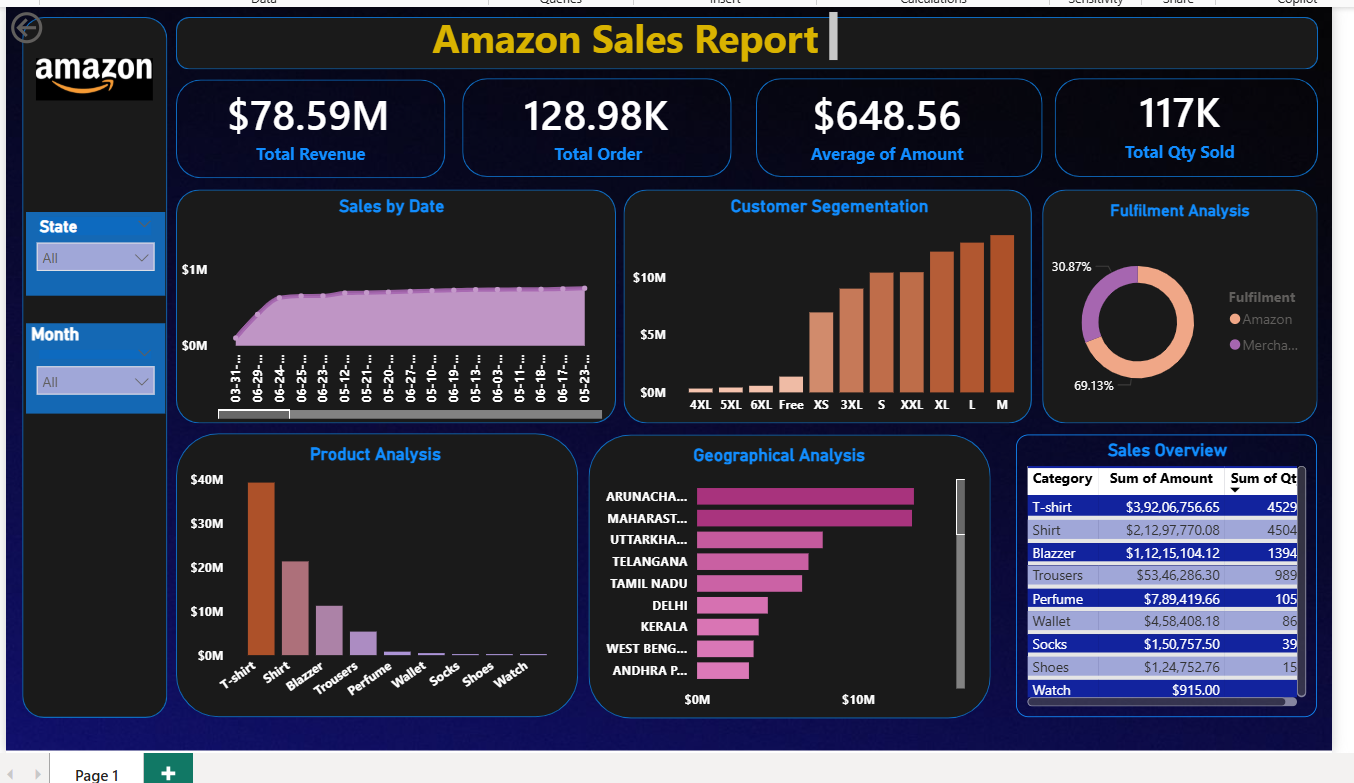

This screenshot's page, from the dashboard's own definition file:
{"tool":"powerbi","page":{"name":"Page 1","canvas":[1280,720],"ordinal":0},"visuals":[{"type":"shape","box":[163.5,9.4,1102.4,50.6],"z":0},{"type":"textbox","box":[407.1,0,401.2,57.6],"z":1000},{"type":"shape","box":[15.3,9.4,140,676.5],"z":2000},{"type":"shape","box":[163.5,69.4,260,95.3],"z":3000},{"type":"card","fields":{"Values":["Sum(Amazon sheet.Amount)"]},"box":[177.6,60,229.4,105.9],"z":4000},{"type":"shape","box":[440,68.2,260,95.3],"z":5000},{"type":"card","fields":{"Values":["CountNonNull(Amazon sheet.Order ID)"]},"box":[455.3,60,229.4,105.9],"z":6000},{"type":"card","fields":{"Values":["Sum(Amazon sheet.Qty)"]},"box":[1018.8,57.6,229.4,105.9],"z":7000},{"type":"shape","box":[723.5,68.2,276.5,95.3],"z":8000},{"type":"shape","box":[1011.8,68.2,254.1,95.3],"z":9000},{"type":"card","fields":{"Values":["Avg(Amazon sheet.Amount)"]},"box":[736.5,60,229.4,105.9],"z":10000},{"type":"shape","box":[163.5,176.5,424.7,225.9],"z":11000},{"type":"shape","box":[596.5,176.5,394.1,225.9],"z":12000},{"type":"columnChart","title":" Customer Segementation","fields":{"Y":["Sum(Amazon sheet.Amount)"],"Category":["Amazon sheet.Size"]},"box":[600,182.4,390.6,220],"z":13000},{"type":"lineChart","title":" Sales by Date","fields":{"Y":["Sum(Amazon sheet.Amount)"],"Category":["Amazon sheet.Date"]},"box":[163.5,182.4,416.5,220],"z":14000},{"type":"shape","box":[1000,176.5,265.9,225.9],"z":15000},{"type":"donutChart","title":" Fulfilment Analysis","fields":{"Y":["Sum(Amazon sheet.Amount)"],"Category":["Amazon sheet.Fulfilment"]},"box":[1000,187.1,265.9,215.3],"z":16000},{"type":"shape","box":[163.5,411.8,388.2,274.1],"z":17000},{"type":"columnChart","title":" Product Analysis","fields":{"Category":["Amazon sheet.Category"],"Y":["Sum(Amazon sheet.Amount)"]},"box":[172.9,421.2,368.2,264.7],"z":18000},{"type":"shape","box":[562.4,412.9,388.2,274.1],"z":19000},{"type":"barChart","title":" Geographical Analysis","fields":{"Y":["Sum(Amazon sheet.Amount)"],"Category":["Amazon sheet.ship-state"]},"box":[562.4,422.4,368.2,264.7],"z":20000},{"type":"tableEx","title":"Sales Overview","fields":{"Values":["Amazon sheet.Category","Sum(Amazon sheet.Amount)","Sum(Amazon sheet.Qty)"]},"box":[975.3,412.9,290.6,272.9],"z":21000},{"type":"actionButton","box":[0,0,100,40],"z":22000},{"type":"slicer","fields":{"Values":["Amazon sheet.ship-state"]},"box":[18.8,197.6,134.1,81.2],"z":23000},{"type":"slicer","title":"Month","fields":{"Values":["Date Table.Month Name"]},"box":[18.8,304.7,134.1,87.1],"z":24000},{"type":"image","box":[24.7,40,122.4,60],"z":25000}]}

Visuals, with their boxes on the page's 1280x720 design canvas (x1, y1, x2, y2). These are canvas units, not pixel positions in the 1354x783 screenshot, which may show the page scaled, cropped or inside an application window:
shape: Rect(164, 9, 1266, 60)
textbox: Rect(407, 0, 808, 58)
shape: Rect(15, 9, 155, 686)
shape: Rect(164, 69, 424, 165)
card - Sum(Amazon sheet.Amount): Rect(178, 60, 407, 166)
shape: Rect(440, 68, 700, 164)
card - CountNonNull(Amazon sheet.Order ID): Rect(455, 60, 685, 166)
card - Sum(Amazon sheet.Qty): Rect(1019, 58, 1248, 164)
shape: Rect(724, 68, 1000, 164)
shape: Rect(1012, 68, 1266, 164)
card - Avg(Amazon sheet.Amount): Rect(736, 60, 966, 166)
shape: Rect(164, 176, 588, 402)
shape: Rect(596, 176, 991, 402)
" Customer Segementation" columnChart: Rect(600, 182, 991, 402)
" Sales by Date" lineChart: Rect(164, 182, 580, 402)
shape: Rect(1000, 176, 1266, 402)
" Fulfilment Analysis" donutChart: Rect(1000, 187, 1266, 402)
shape: Rect(164, 412, 552, 686)
" Product Analysis" columnChart: Rect(173, 421, 541, 686)
shape: Rect(562, 413, 951, 687)
" Geographical Analysis" barChart: Rect(562, 422, 931, 687)
"Sales Overview" tableEx: Rect(975, 413, 1266, 686)
actionButton: Rect(0, 0, 100, 40)
slicer - Amazon sheet.ship-state: Rect(19, 198, 153, 279)
"Month" slicer: Rect(19, 305, 153, 392)
image: Rect(25, 40, 147, 100)
